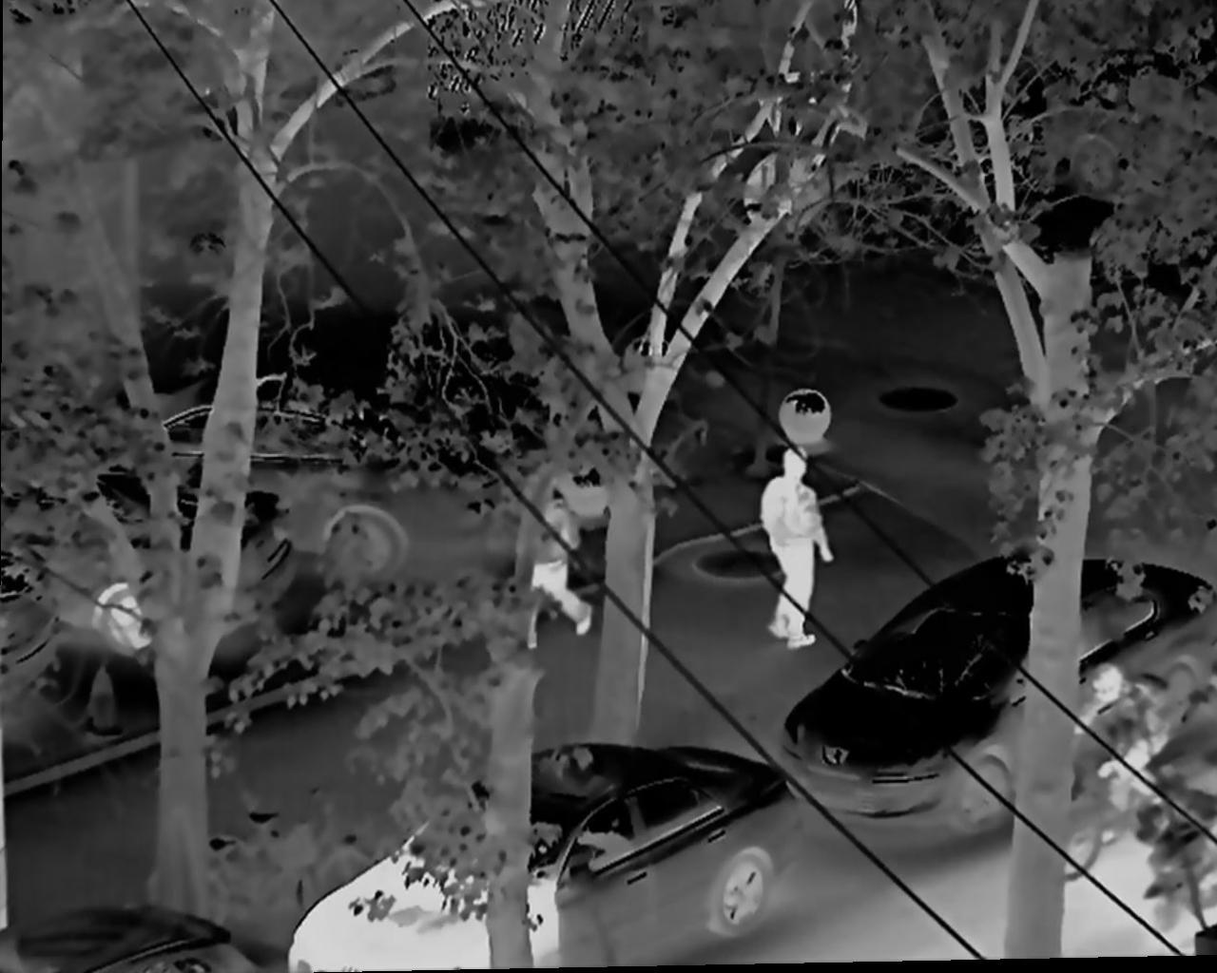person: (760, 444, 833, 651), (1072, 667, 1170, 811)
